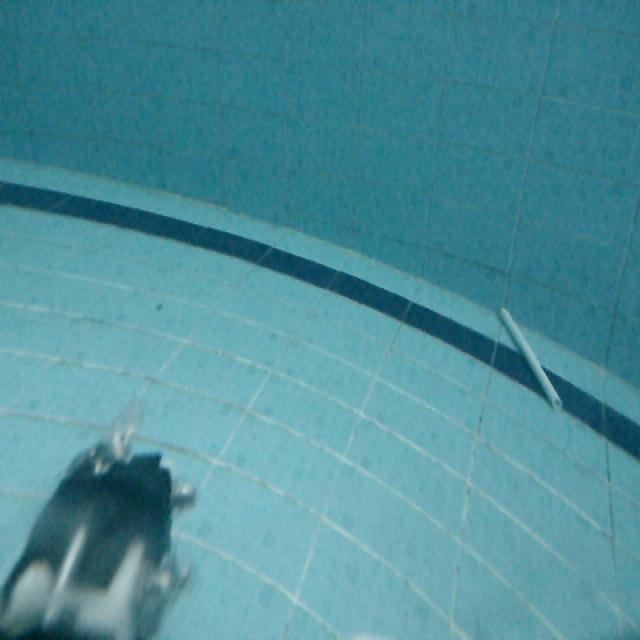Cube: (500, 307, 568, 412)
